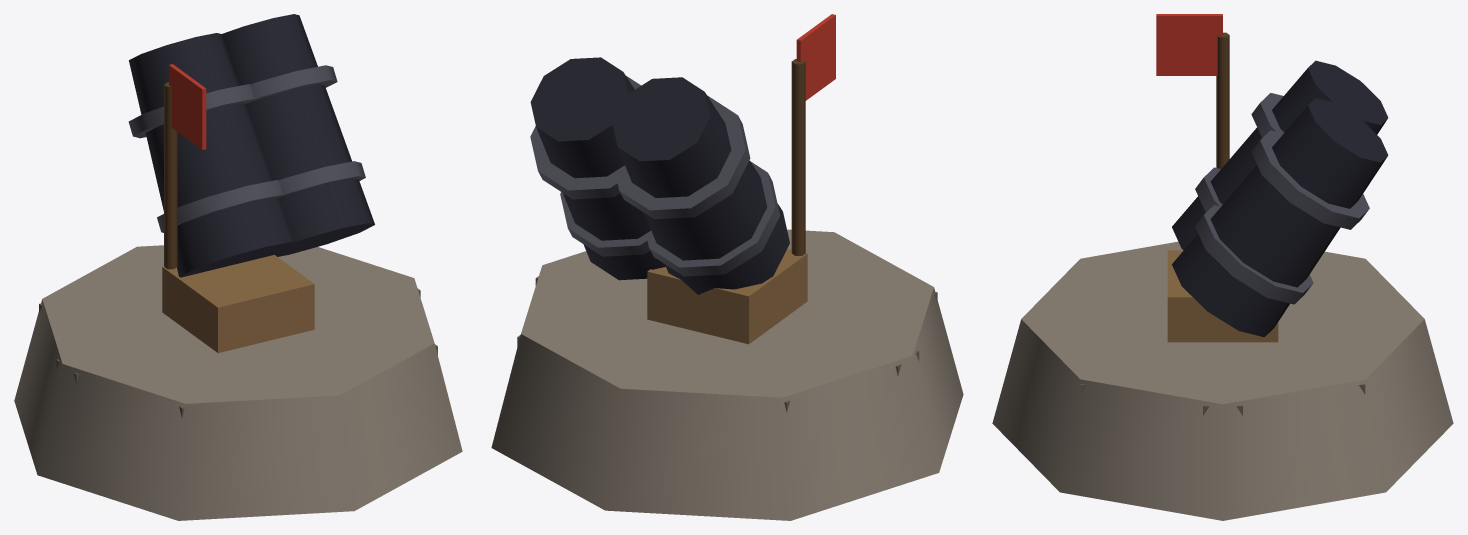
Rendered from goblin-level3.glb.
3 renders of one model, left to right at view 1: azimuth 30°, elevation 25°; view 2: azimuth 150°, elevation 25°; view 3: azimuth 270°, elevation 25°, orthographic. The views are drawn at different scales.
Parts seen in each view (by area): view 1: object 1, turret; view 2: object 1, turret; view 3: object 1, turret.
Boxes of the visible parts, <box> form: object 1: <box>14,245,462,520</box>; turret: <box>128,14,374,352</box>; object 1: <box>491,229,963,520</box>; turret: <box>530,14,835,344</box>; object 1: <box>992,241,1453,520</box>; turret: <box>1156,14,1388,342</box>.
Bounding box in the file's own units: 2.33 × 2.09 × 2.33.
